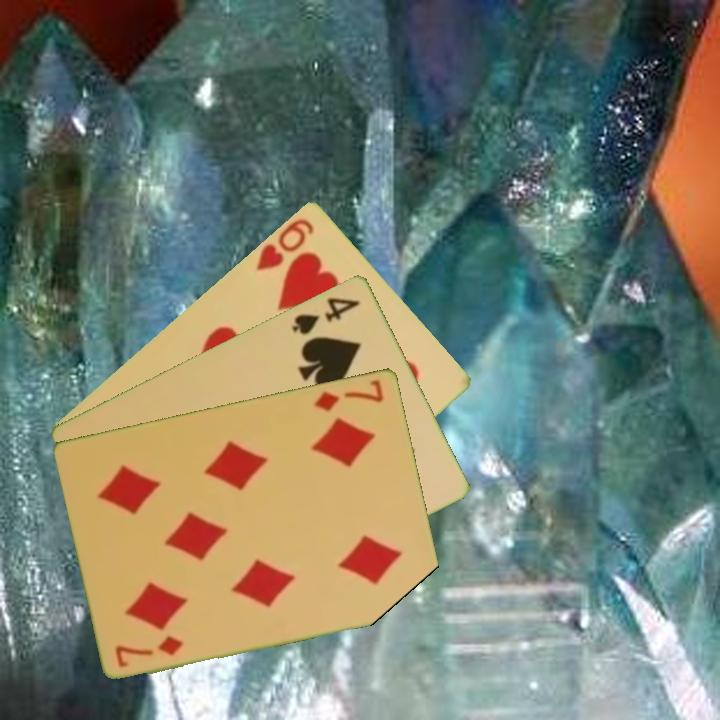4s: (288, 293, 363, 337)
6h: (252, 214, 317, 274)
7d: (311, 375, 387, 414), (112, 631, 186, 670)
